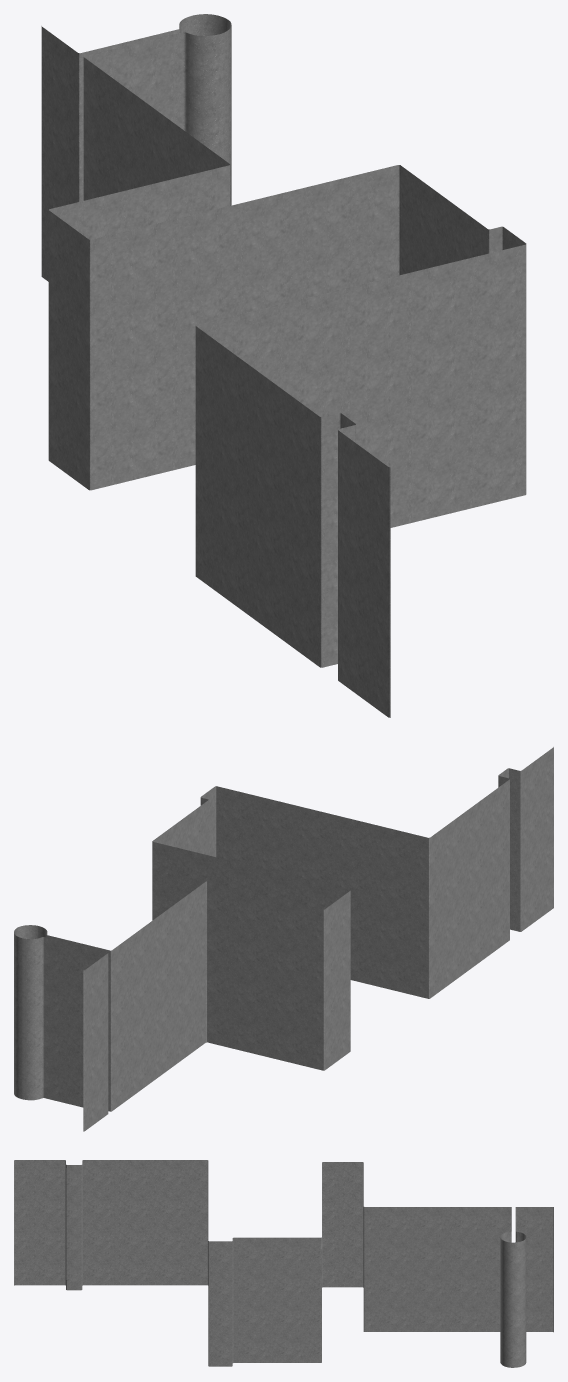
Rendered from WPLWall03.fbx.
3 views of the same model, one above another, from view 1: azimuth 30°, elevation 25°; view 2: azimuth 150°, elevation 25°; view 3: azimuth 270°, elevation 25° (orthographic). The views are drawn at different scales.
Visible parts, largest first — view 1: Wall 03.Shape; view 2: Wall 03.Shape; view 3: Wall 03.Shape.
Boxes of the visible parts, x1,y1,x2,y2 form: Wall 03.Shape: [41, 14, 526, 717]; Wall 03.Shape: [14, 747, 553, 1131]; Wall 03.Shape: [14, 1160, 553, 1367].
Size of the model in its own units: 898 by 636 by 2486.
1 material, 1 textured.
